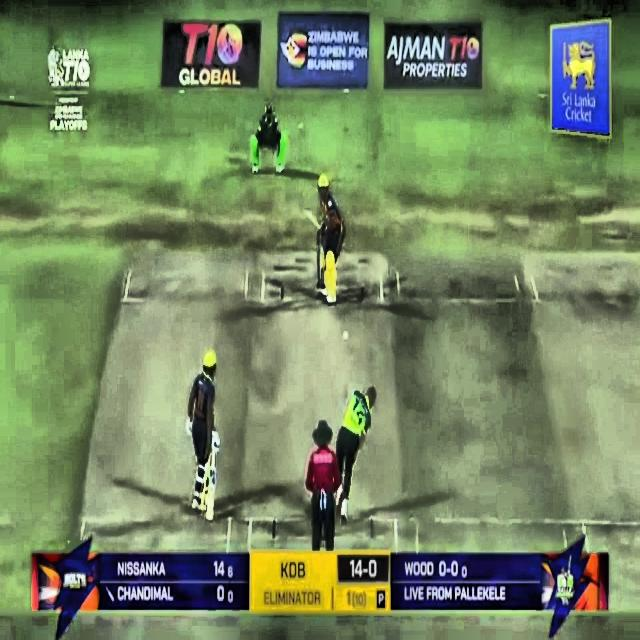Left-stump: (318, 234, 320, 287)
Middle-stump: (322, 269, 324, 287)
